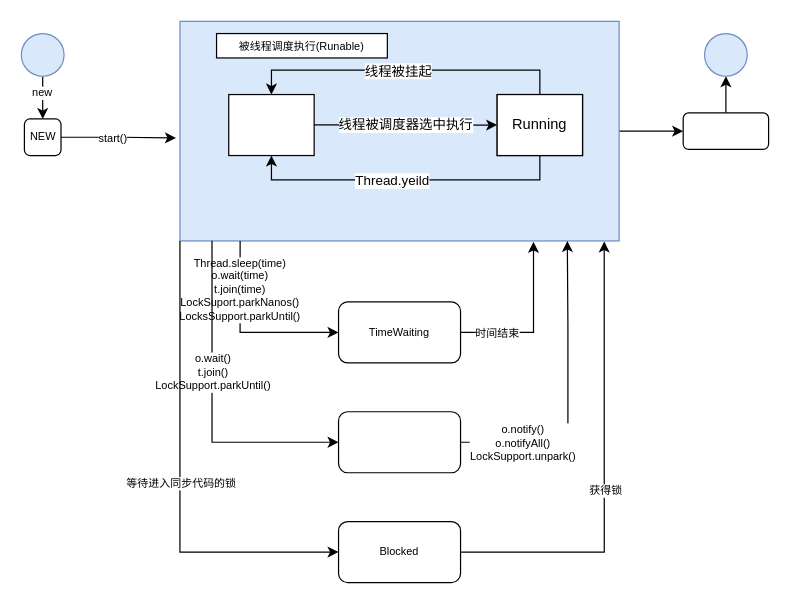
Some shapes in this 791 by 604 pixel diagram are drawn without their labels. The shapes that lost their labels are listed below. From the top down, each one's box as (x1, y1, x2, y2) in pixels, then its label:
(228, 93, 314, 156): Ready
(682, 112, 769, 149): Teminated
(337, 411, 461, 473): Waiting
